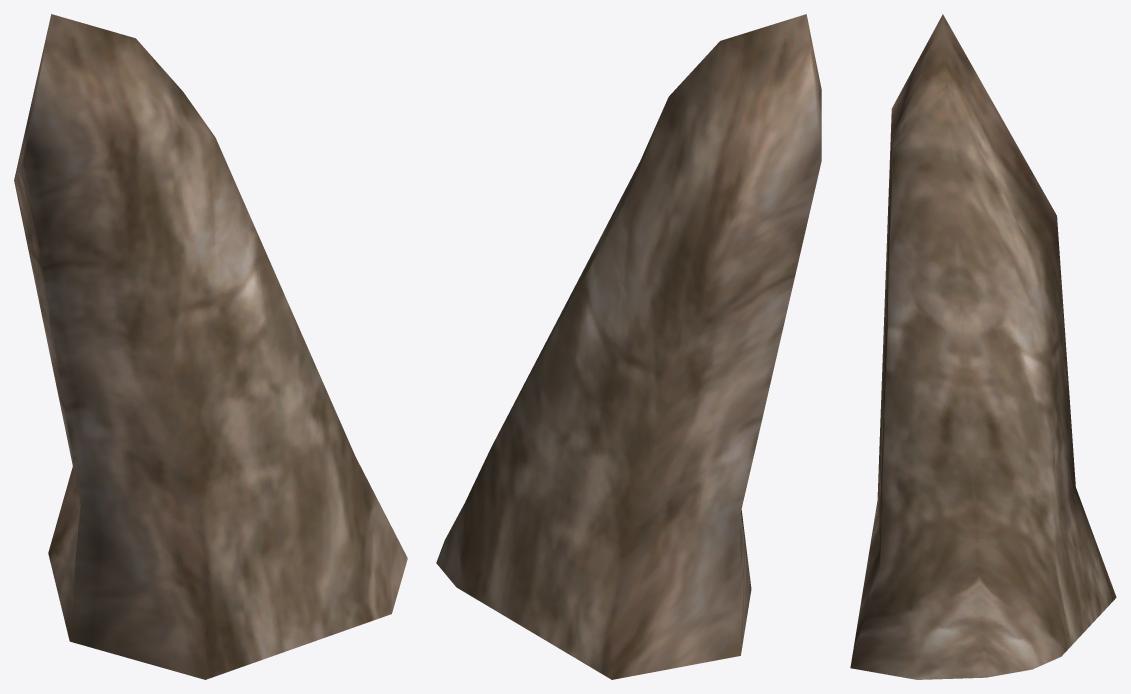
The model's file is OVERHILL_A_01_ROCK36.fbx.
The picture shows the model from 3 angles, left to right: view 1: azimuth 30°, elevation 25°; view 2: azimuth 150°, elevation 25°; view 3: azimuth 270°, elevation 25°; orthographic projection. The views are drawn at different scales.
Parts seen in each view (by area): view 1: OVERHILL_A_01_ROCK36; view 2: OVERHILL_A_01_ROCK36; view 3: OVERHILL_A_01_ROCK36.
Boxes of the visible parts, x1,y1,x2,y2 form: OVERHILL_A_01_ROCK36: (14,14,407,679); OVERHILL_A_01_ROCK36: (436,14,821,679); OVERHILL_A_01_ROCK36: (850,14,1116,679).
Size of the model in its own units: 43585 by 73989 by 32009.
Materials: 1 (1 with a texture image).
